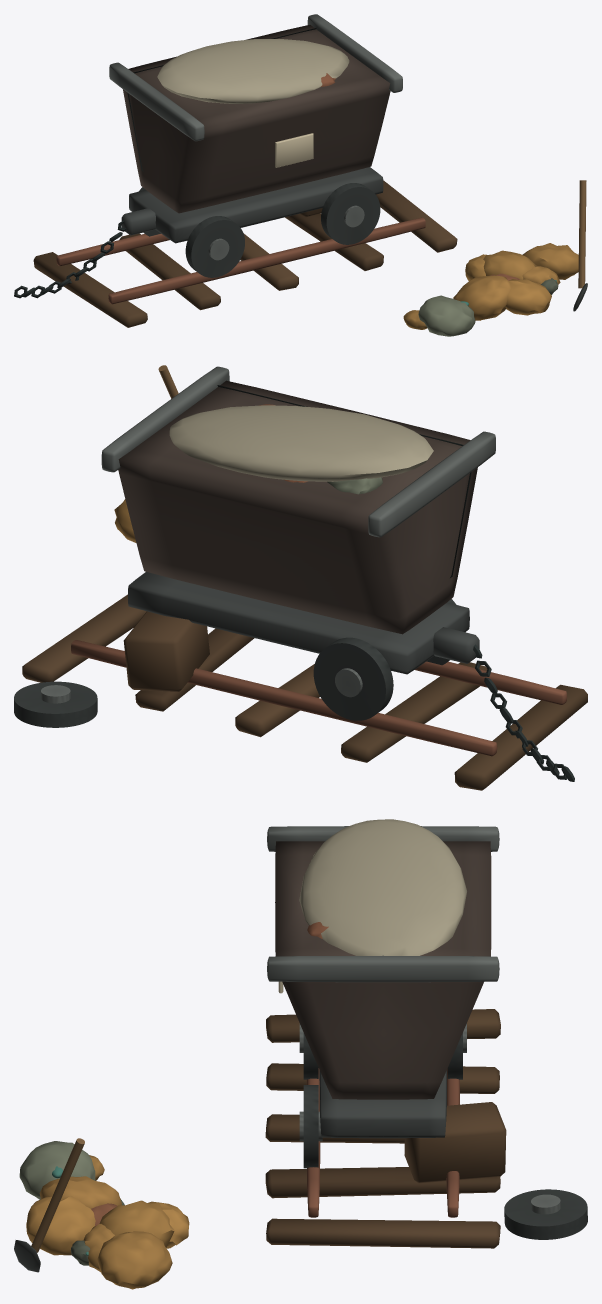
The model's file is ore_car_b.glb.
3 renders of one model, top to bottom at view 1: azimuth 30°, elevation 25°; view 2: azimuth 150°, elevation 25°; view 3: azimuth 270°, elevation 25°, orthographic. The views are drawn at different scales.
Parts seen in each view (by area): view 1: Surface; view 2: Surface; view 3: Surface.
Part boxes in pixels (bbox=[...]): Surface: bbox=[14, 14, 587, 336]; Surface: bbox=[14, 365, 587, 790]; Surface: bbox=[14, 819, 587, 1289].
Bounding box in the file's own units: 6.03 × 2.66 × 4.94.
